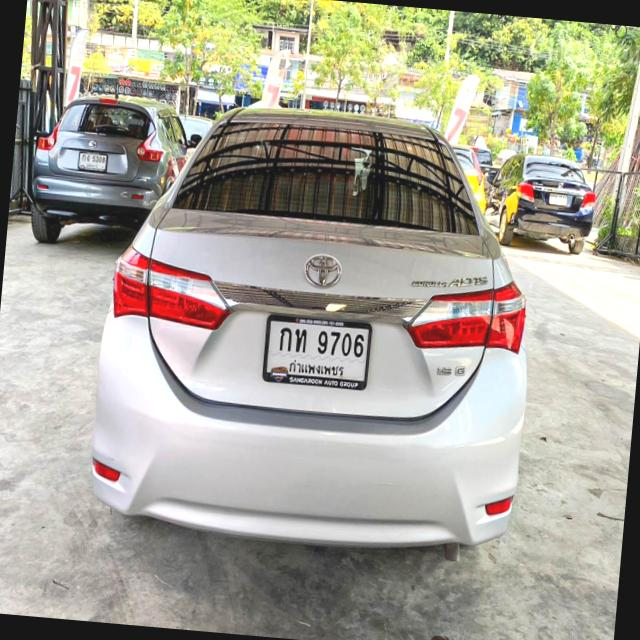license_plate: (258, 305, 373, 394)
